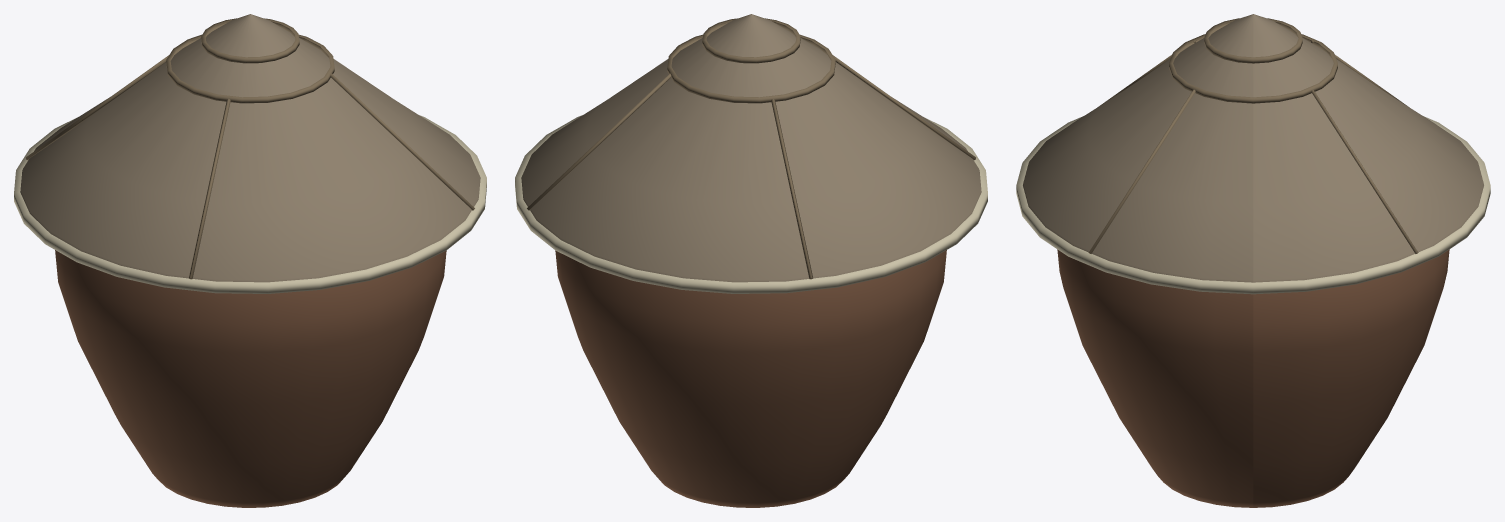
File: vat_model.glb
The picture shows the model from 3 angles, left to right: view 1: azimuth 30°, elevation 25°; view 2: azimuth 150°, elevation 25°; view 3: azimuth 270°, elevation 25°; orthographic projection.
Parts seen in each view (by area): view 1: vat_hat_stl, vat_jar_stl; view 2: vat_hat_stl, vat_jar_stl; view 3: vat_hat_stl, vat_jar_stl.
Boxes of the visible parts, left/top/right/bottom form: vat_hat_stl: left=14, top=14, right=486, bottom=293; vat_jar_stl: left=55, top=250, right=446, bottom=507; vat_hat_stl: left=515, top=14, right=987, bottom=293; vat_jar_stl: left=555, top=250, right=946, bottom=507; vat_hat_stl: left=1016, top=14, right=1490, bottom=294; vat_jar_stl: left=1057, top=249, right=1449, bottom=507.
Bounding box in the file's own units: 1.14 × 1.21 × 1.14.
